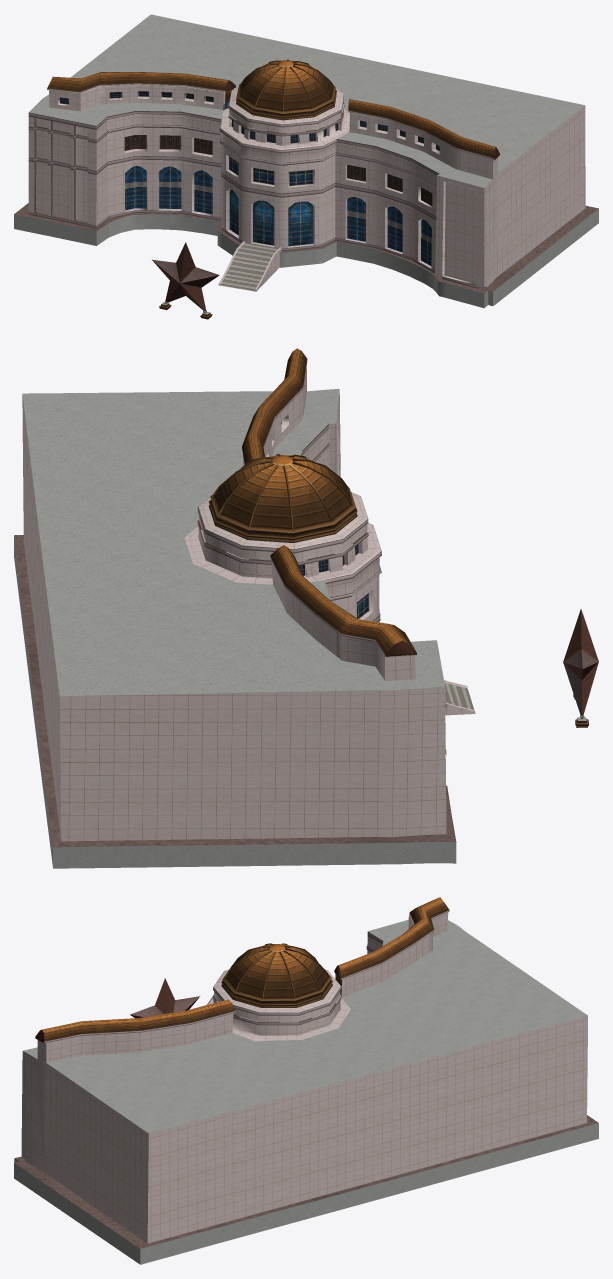
The model's file is Austin_track_landmark_02.dae.
3 renders of one model, top to bottom at view 1: azimuth 30°, elevation 25°; view 2: azimuth 150°, elevation 25°; view 3: azimuth 270°, elevation 25°, orthographic. The views are drawn at different scales.
Visible parts, largest first — view 1: Austin_track_landmark_02; view 2: Austin_track_landmark_02; view 3: Austin_track_landmark_02.
Part boxes in pixels (x1,y1,x2,y2): Austin_track_landmark_02: (14,14,598,319); Austin_track_landmark_02: (14,348,598,868); Austin_track_landmark_02: (14,897,598,1264).
Bounding box in the file's own units: 11.89 × 12.6 × 4.46.
Materials: 4 (4 with a texture image).
